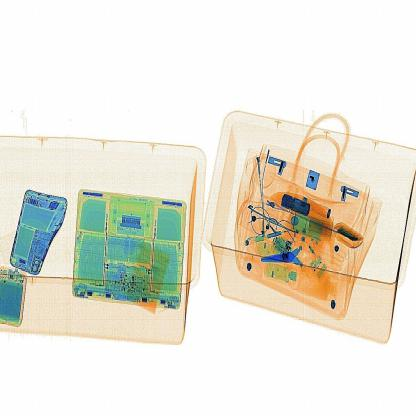gun: (256, 232, 335, 284)
